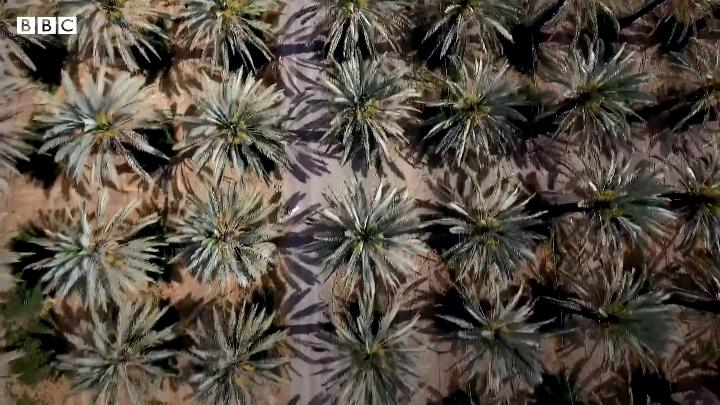Date-Palm-Crown: (84, 328, 156, 390), (64, 92, 132, 156), (194, 204, 256, 268), (334, 201, 393, 261), (448, 77, 502, 139), (63, 224, 118, 284), (466, 306, 524, 362), (206, 96, 258, 158), (459, 200, 515, 256), (344, 325, 396, 385), (586, 283, 638, 343), (577, 62, 623, 128), (204, 332, 260, 386), (580, 172, 630, 232), (334, 79, 386, 130), (678, 168, 720, 226), (198, 0, 252, 42), (80, 0, 142, 36), (442, 0, 498, 28), (330, 0, 380, 30), (694, 64, 720, 111)
